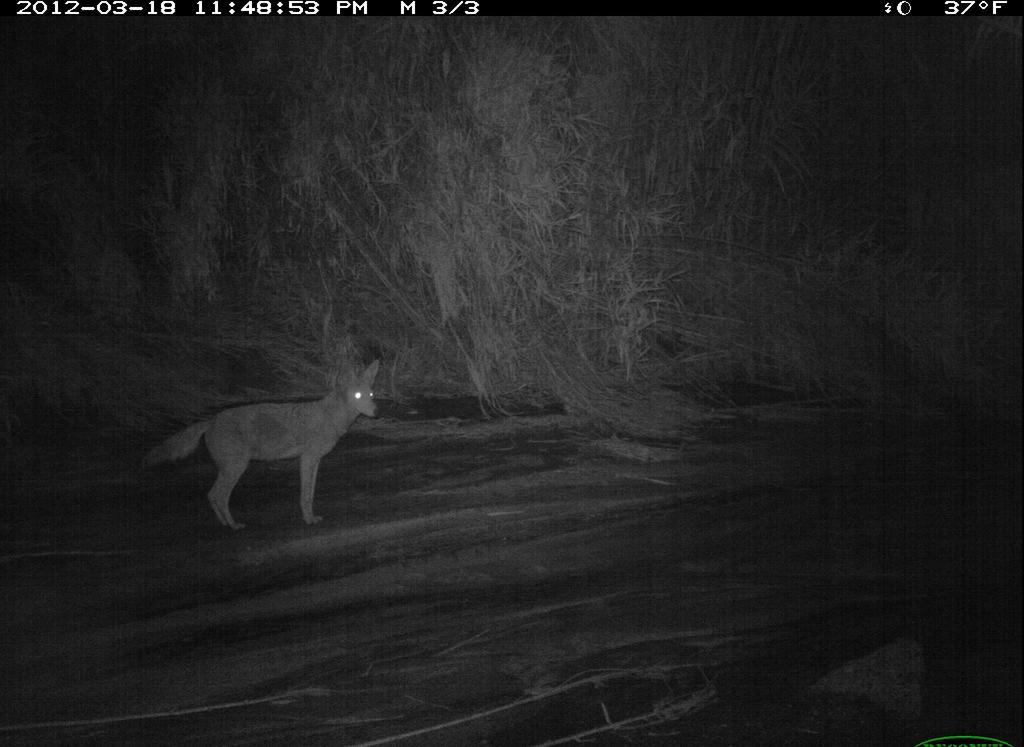coyote: (132, 349, 386, 538)
